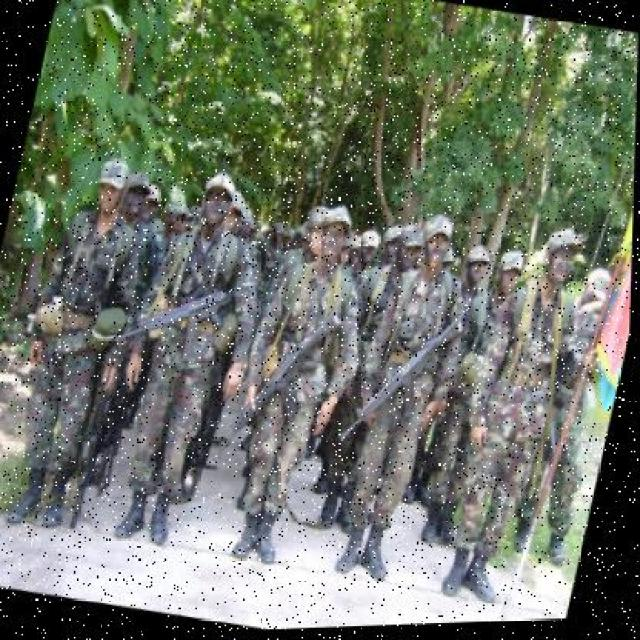MIL_Pax: (473, 250, 592, 518), (26, 156, 139, 432), (132, 177, 256, 426), (246, 205, 374, 430), (360, 229, 472, 451), (458, 241, 539, 421), (356, 222, 432, 349), (216, 183, 295, 280), (444, 240, 508, 354)
